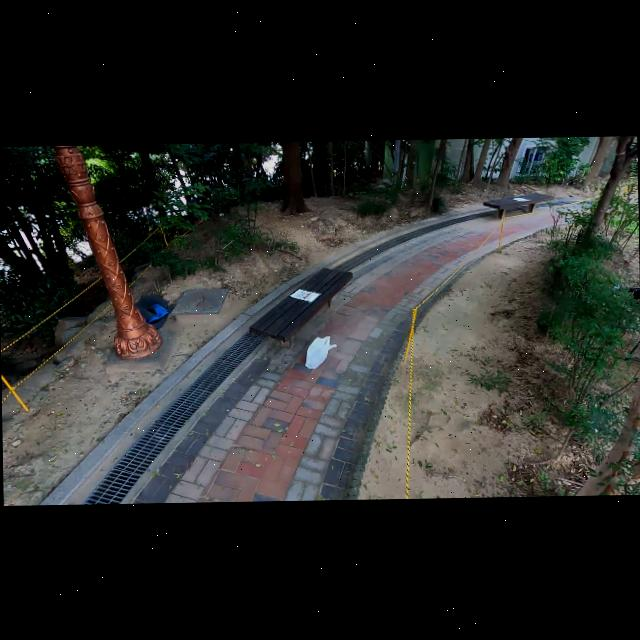trash: (129, 290, 173, 332), (304, 333, 337, 367)
